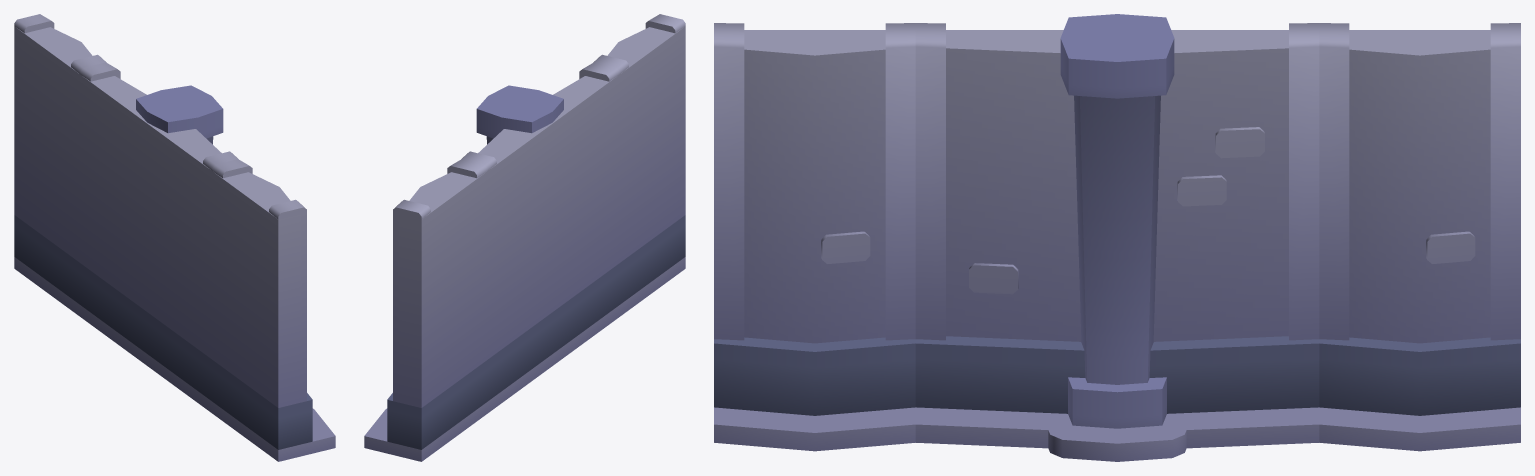
Rendered from corridor-wide 1.fbx.
The picture shows the model from 3 angles, left to right: view 1: azimuth 30°, elevation 25°; view 2: azimuth 150°, elevation 25°; view 3: azimuth 270°, elevation 25°; orthographic projection. The views are drawn at different scales.
Visible parts, largest first — view 1: corridor-wide.033; view 2: corridor-wide.033; view 3: corridor-wide.033.
Boxes of the visible parts, x1,y1,x2,y2 form: corridor-wide.033: (14,14,335,461); corridor-wide.033: (364,14,685,461); corridor-wide.033: (714,14,1520,461).
Size of the model in its own units: 58.08 by 169 by 320.
